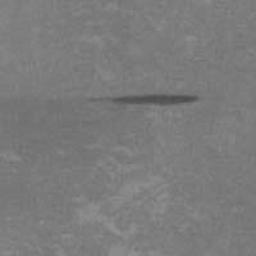Oil spot: (82, 91, 204, 108)
